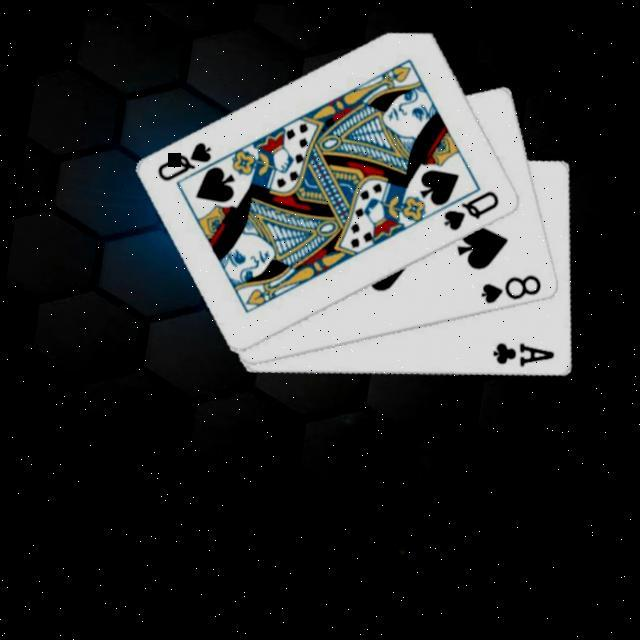8S: (473, 260, 545, 314)
AC: (485, 332, 557, 374)
QS: (436, 177, 502, 239), (150, 129, 216, 191)
